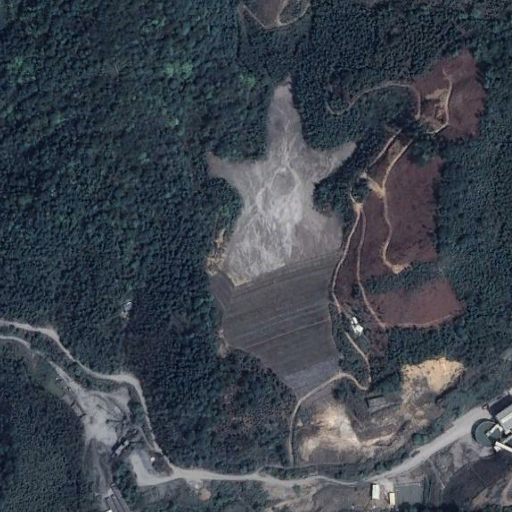tp: (204, 73, 359, 402)
